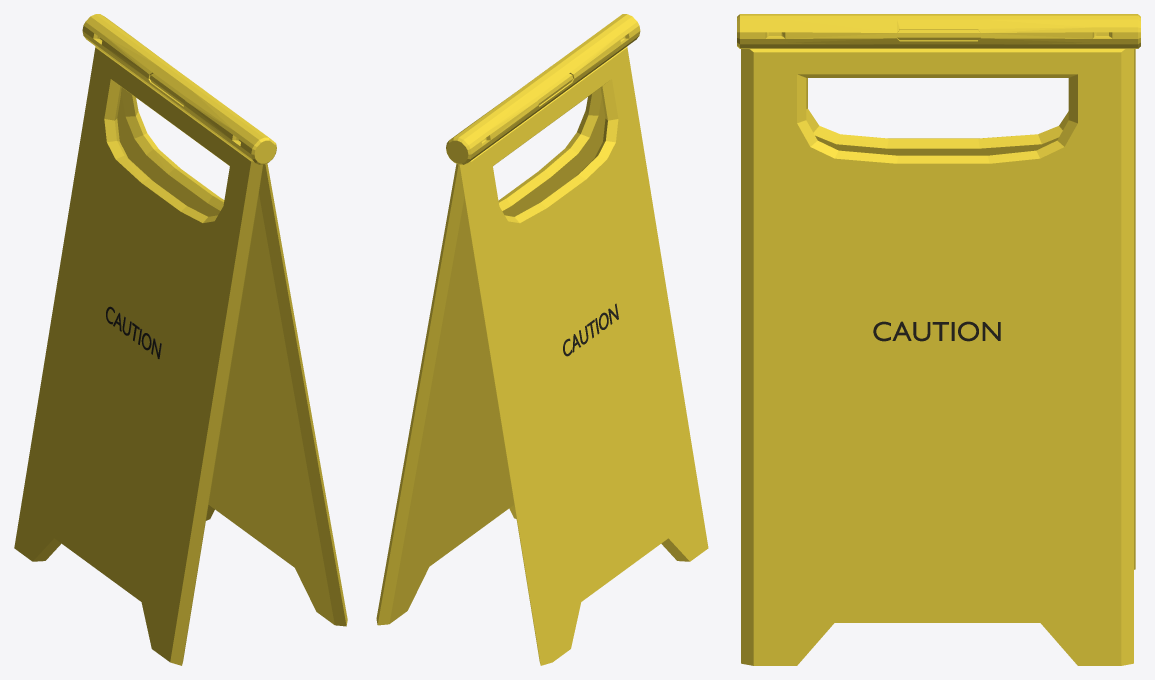
File: CautionSign.dae
3 views of the same model, side by side, from view 1: azimuth 30°, elevation 25°; view 2: azimuth 150°, elevation 25°; view 3: azimuth 270°, elevation 25° (orthographic). The views are drawn at different scales.
Visible parts, largest first — view 1: CautionSign, caution_sign_text_neg_x; view 2: CautionSign, caution_sign_text_neg_x; view 3: CautionSign, caution_sign_text_pos_x.
Part boxes in pixels (bbox=[...]): CautionSign: bbox=[14, 14, 347, 665]; caution_sign_text_neg_x: bbox=[106, 306, 161, 358]; CautionSign: bbox=[376, 14, 708, 665]; caution_sign_text_neg_x: bbox=[563, 303, 618, 356]; CautionSign: bbox=[737, 14, 1140, 665]; caution_sign_text_pos_x: bbox=[873, 321, 1000, 341].
Size of the model in its own units: 0.3172 by 0.5324 by 0.875.
